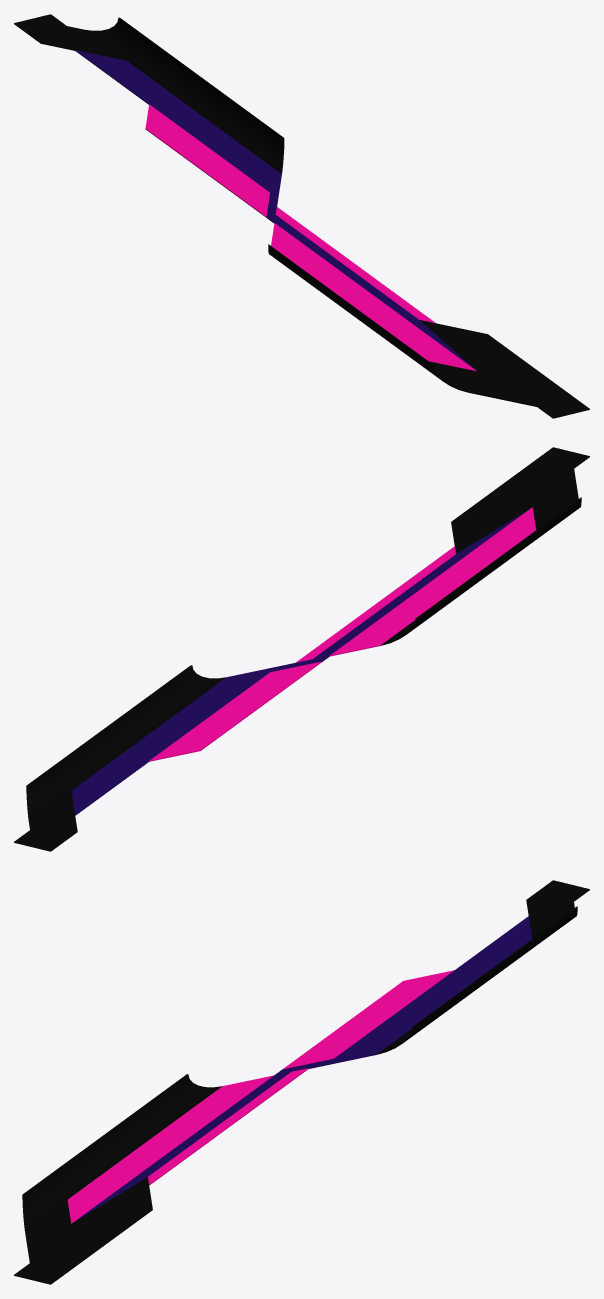
Rendered from Halfpipes.FBX.
3 views of the same model, one above another, from view 1: azimuth 30°, elevation 25°; view 2: azimuth 150°, elevation 25°; view 3: azimuth 330°, elevation 25° (orthographic).
Parts seen in each view (by area): view 1: Halfpipe 2; view 2: Halfpipe 2; view 3: Halfpipe 2.
Boxes of the visible parts, bbox=[...] form: Halfpipe 2: bbox=[14, 14, 589, 418]; Halfpipe 2: bbox=[14, 447, 589, 851]; Halfpipe 2: bbox=[14, 880, 589, 1284].
Size of the model in its own units: 2640 by 20282 by 420.
